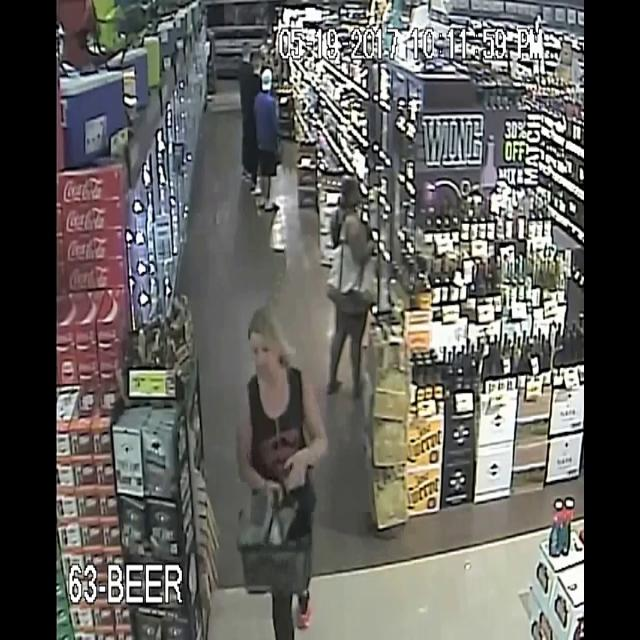normal: (200, 285, 343, 640), (300, 163, 377, 351), (236, 58, 290, 198)
